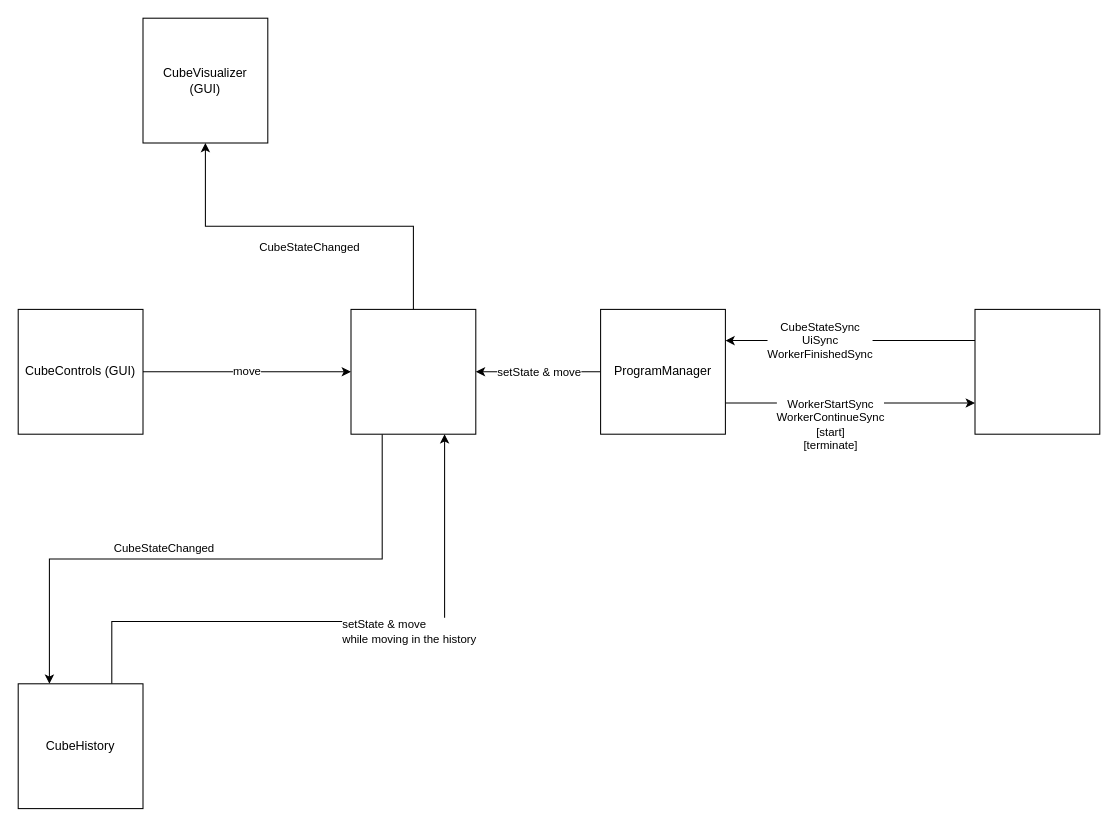
Image size: 1118x827. Some labels were removed from this diagram. Here are the shapes that lost their labels. From the top down, the centre of each, then its label:
(x=413, y=371): Cube
(x=1037, y=371): ProgramWorker
